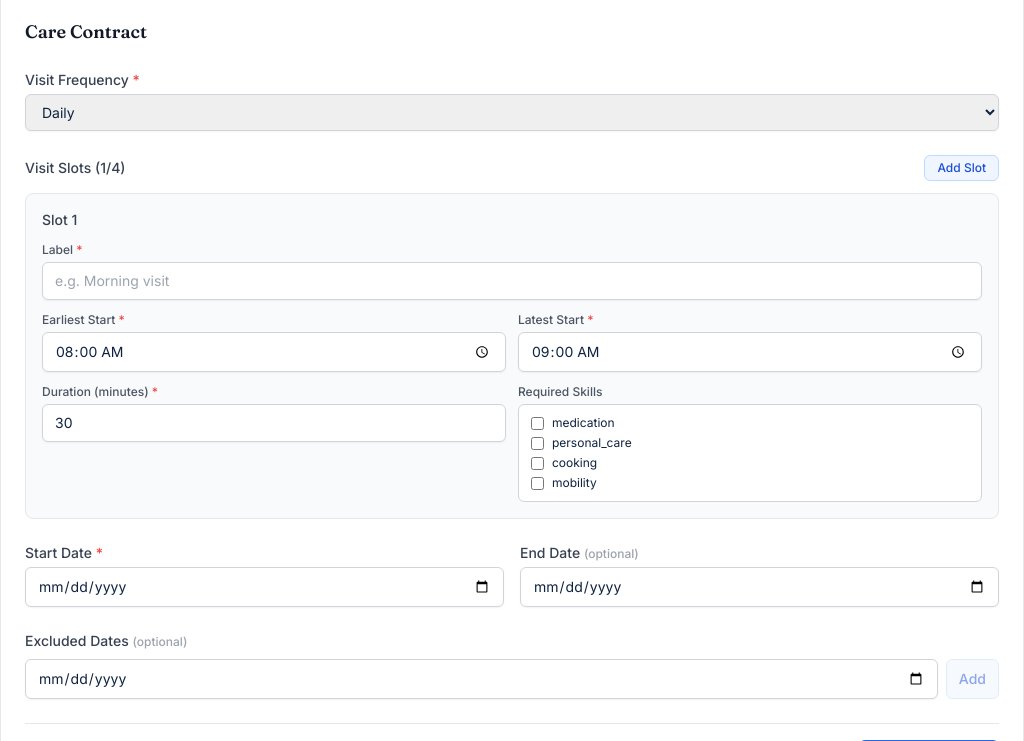
Test case: ContractForm › validates slot duration must be between 15 and 120
In the date field labelled "Start Date *": (264,587) [25,567,504,607], type "2025-01-01"
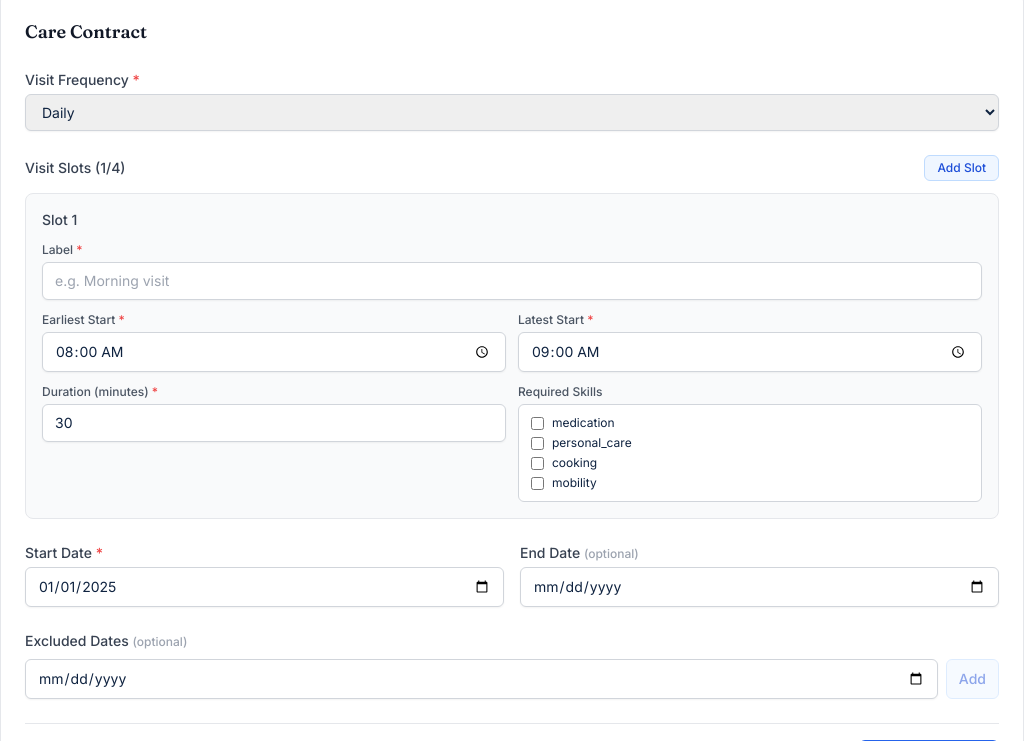
In the field labelled "Label *": (512,281) [42,262,982,300], type "Test"
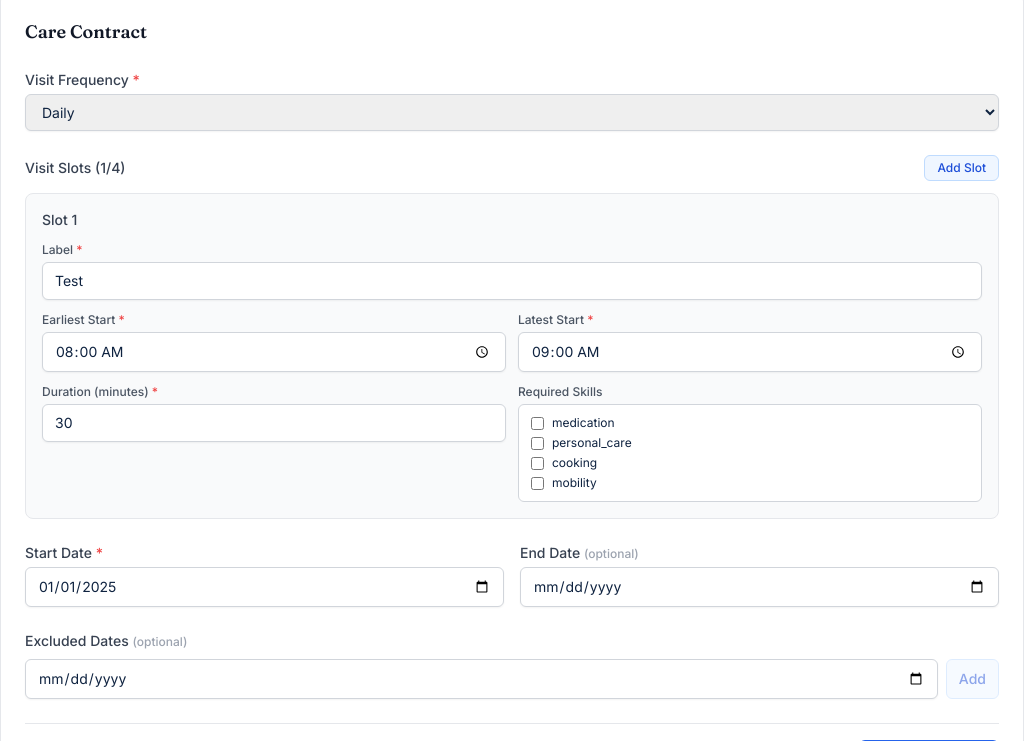
Replace the text in the number field labelled "Duration (minutes) *" with "10": (274,423) [42,404,506,442]
(page scrolled)
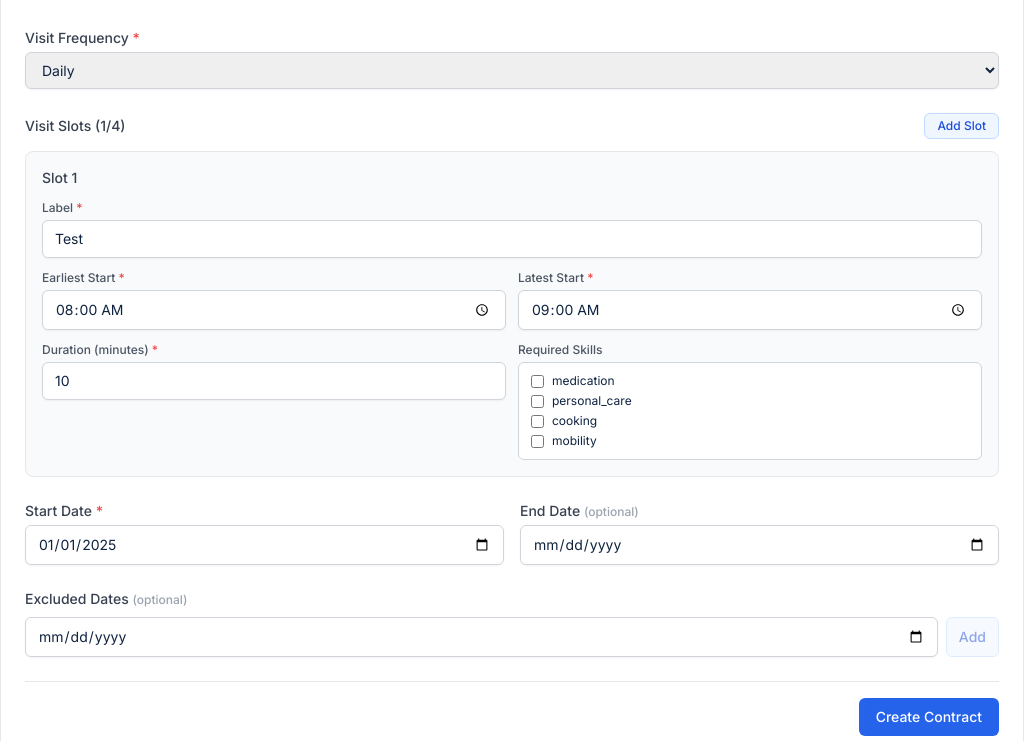
Click the button "Create Contract": (929,717) [859,698,999,736]
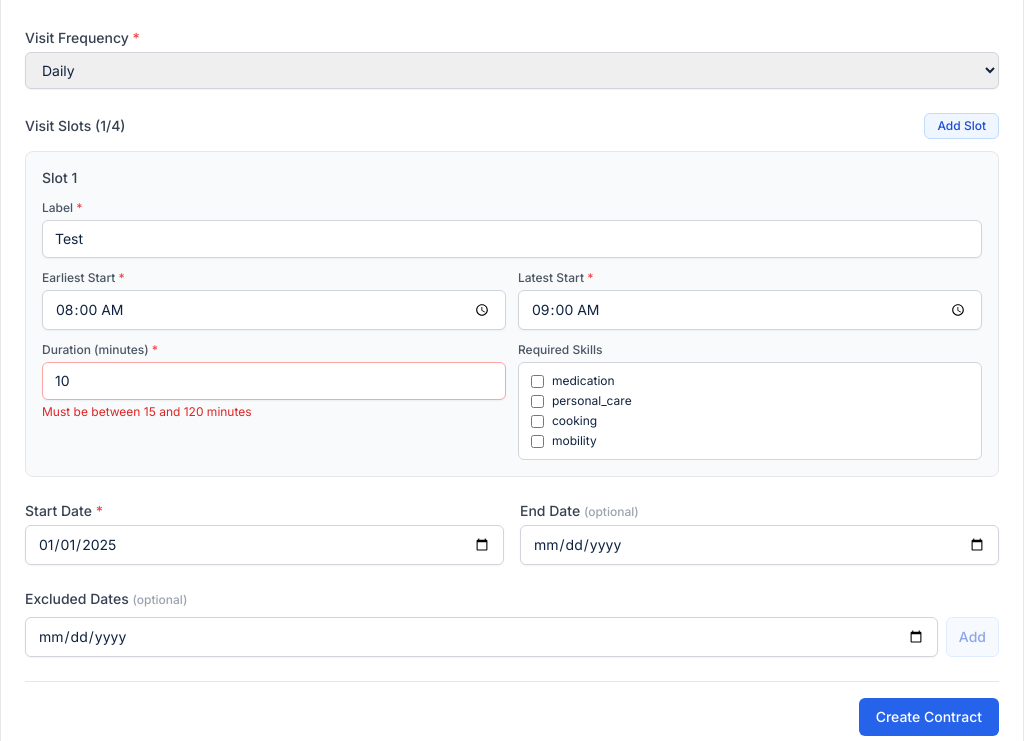
Expected: the text "Must be between 15 and 120 minutes" is shown, [42,404,252,419]
